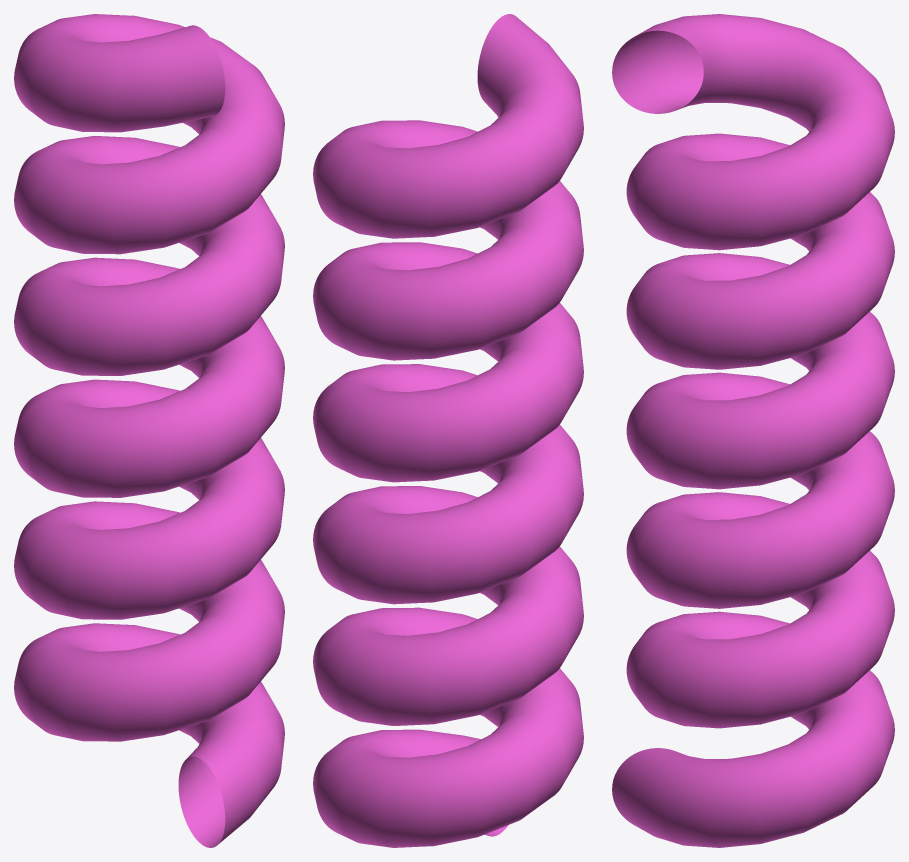
Rendered from Corkscrew.glb.
The picture shows the model from 3 angles, left to right: view 1: azimuth 30°, elevation 25°; view 2: azimuth 150°, elevation 25°; view 3: azimuth 270°, elevation 25°; orthographic projection.
Visible parts, largest first — view 1: BézierCircle; view 2: BézierCircle; view 3: BézierCircle.
Boxes of the visible parts, x1,y1,x2,y2 form: BézierCircle: (14, 14, 284, 847); BézierCircle: (313, 14, 583, 847); BézierCircle: (612, 14, 894, 847).
Size of the model in its own units: 0.2404 by 0.7913 by 0.2534.
